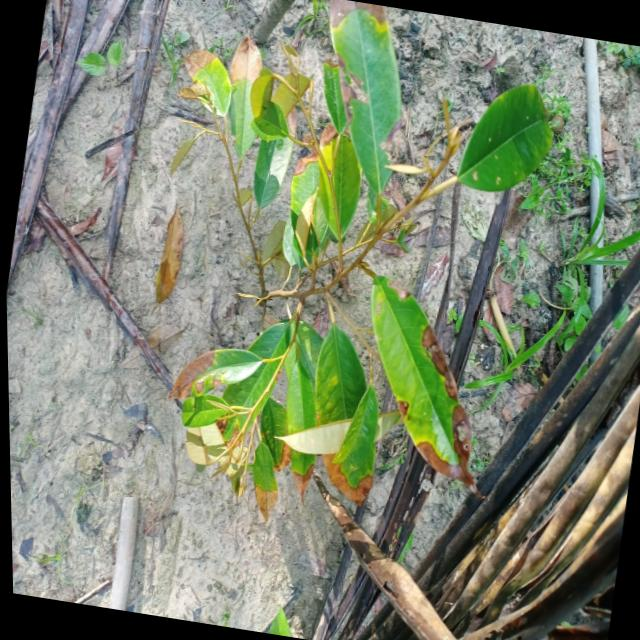Leaf Blight: (396, 324, 504, 507), (161, 342, 231, 412), (324, 48, 381, 130), (170, 38, 226, 110), (309, 0, 412, 38), (320, 445, 379, 510), (246, 476, 286, 530), (227, 33, 263, 87), (283, 140, 327, 183), (283, 461, 321, 502), (310, 119, 349, 158), (260, 432, 292, 479), (383, 388, 411, 426)
